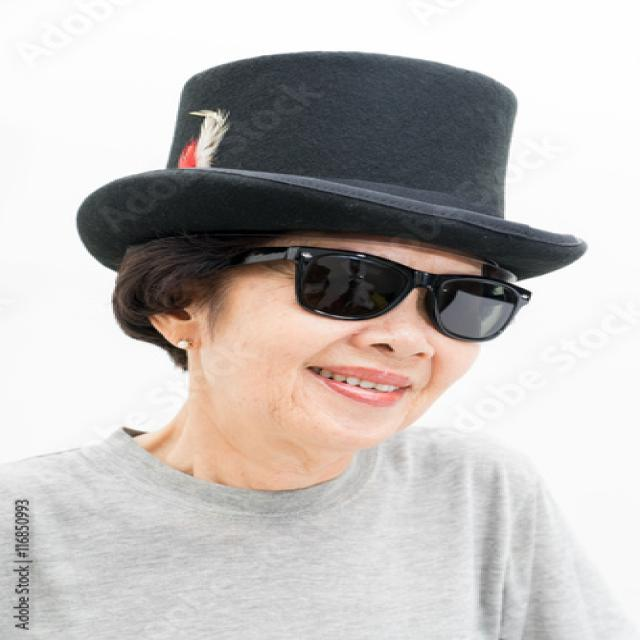hat: (80, 58, 586, 444)
